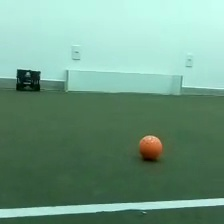ball: (136, 132, 164, 162)
goal: (64, 68, 184, 97)
robot: (14, 67, 42, 93)
